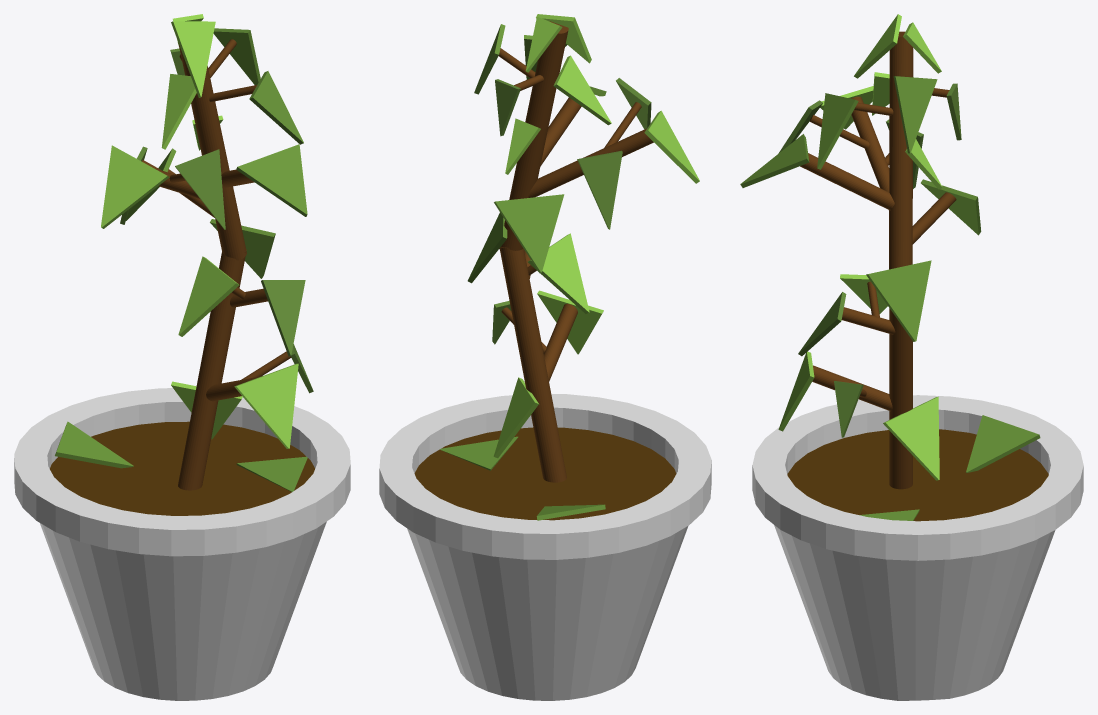
File: plantwCol2.fbx
3 renders of one model, left to right at view 1: azimuth 30°, elevation 25°; view 2: azimuth 150°, elevation 25°; view 3: azimuth 270°, elevation 25°, orthographic.
Parts seen in each view (by area): view 1: Cylinder.016; view 2: Cylinder.016; view 3: Cylinder.016.
Boxes of the visible parts, box(x1,y1,x2,y2) form: Cylinder.016: box(14, 14, 350, 700); Cylinder.016: box(379, 14, 711, 700); Cylinder.016: box(740, 14, 1083, 700).
Size of the model in its own units: 252 by 538 by 261.
